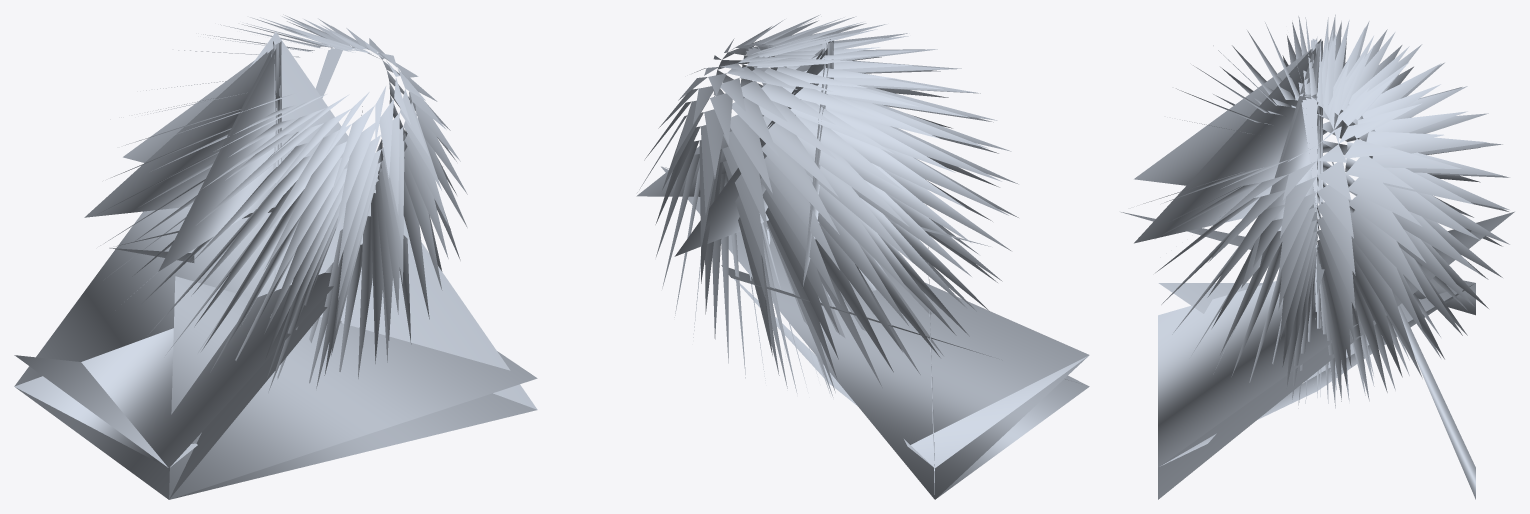
File: moment_of_inertia_hollow_circle.glb
3 views of the same model, side by side, from view 1: azimuth 30°, elevation 25°; view 2: azimuth 150°, elevation 25°; view 3: azimuth 270°, elevation 25° (orthographic). The views are drawn at different scales.
Visible parts, largest first — view 1: tool; view 2: tool; view 3: tool.
Part boxes in pixels (box(x1,y1,x2,y2)): tool: box(14, 14, 537, 499); tool: box(636, 14, 1089, 499); tool: box(1121, 14, 1514, 499).
Bounding box in the file's own units: 2.2 × 2.09 × 2.
